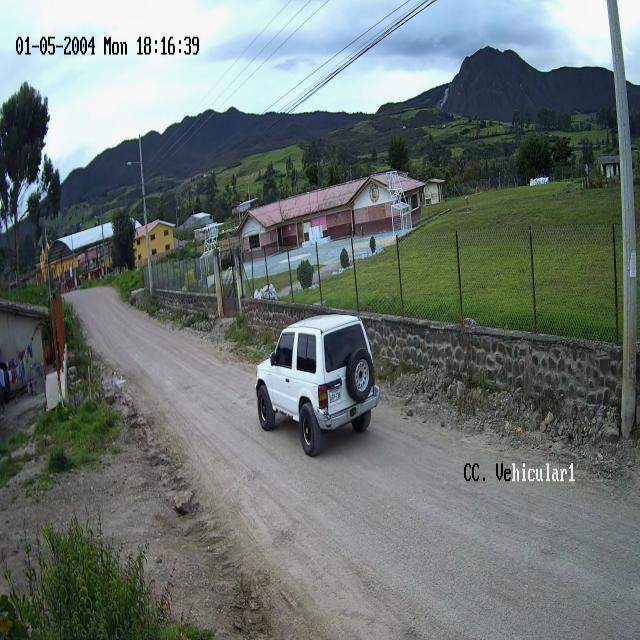SUV: (255, 318, 380, 458)
